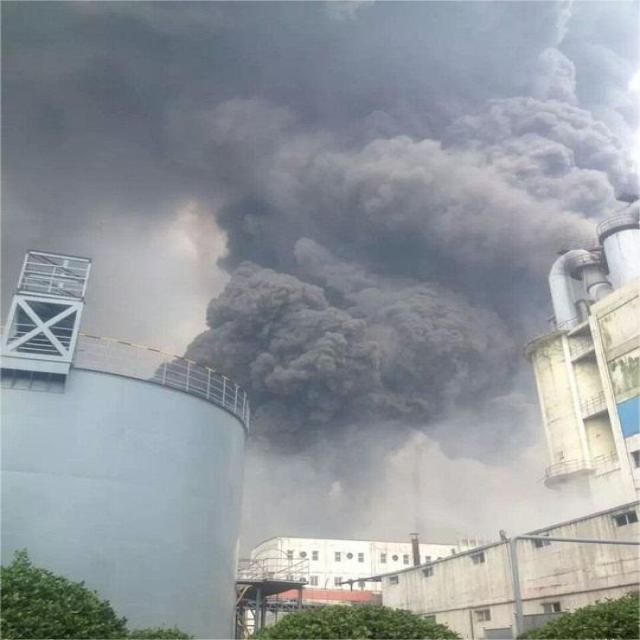Smoke: (79, 0, 562, 381)
